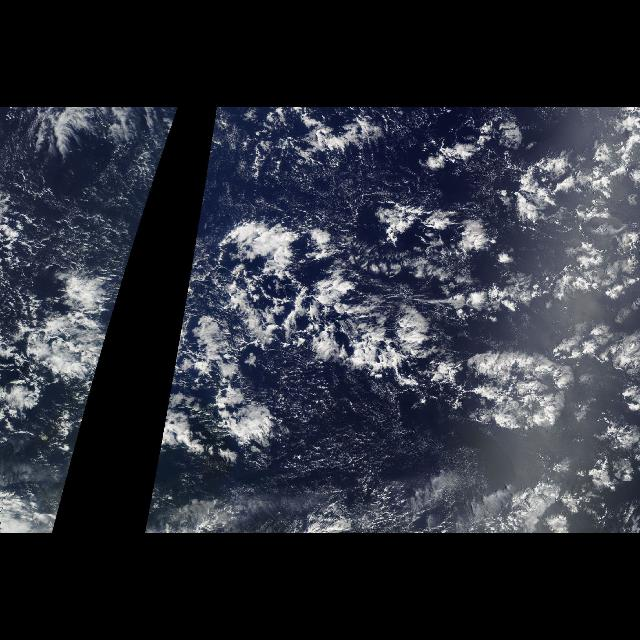Fish: (206, 186, 590, 472)
Flower: (424, 107, 640, 323)
Gravel: (200, 109, 534, 233)
Sugar: (197, 143, 356, 227), (25, 143, 167, 227)
